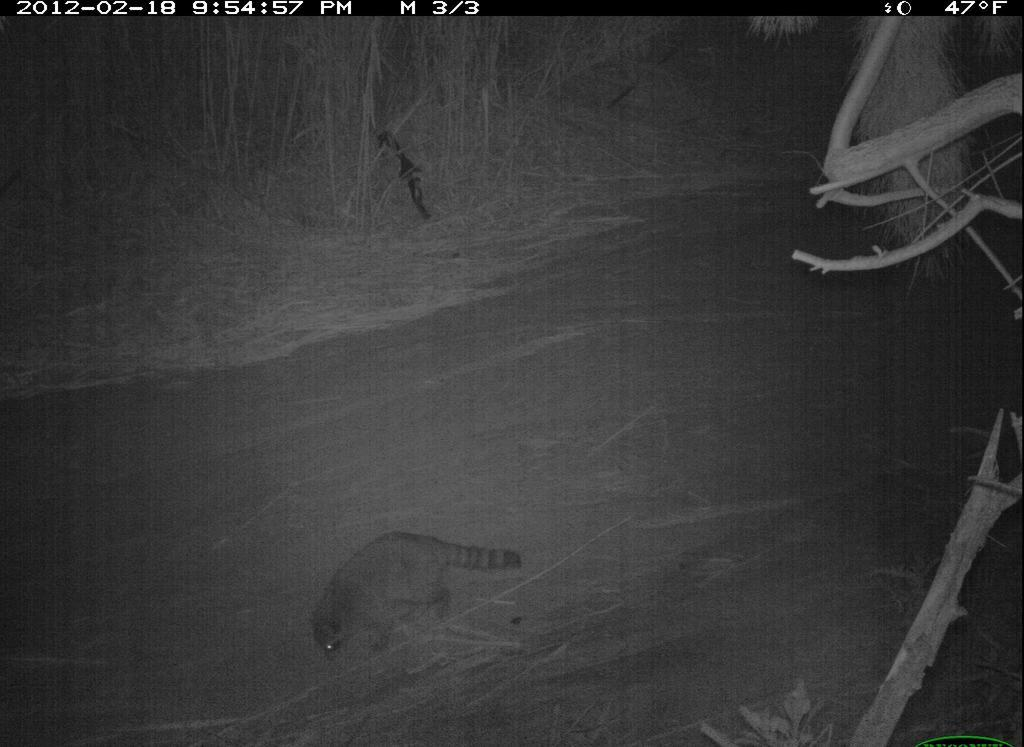raccoon: (283, 525, 533, 679)
